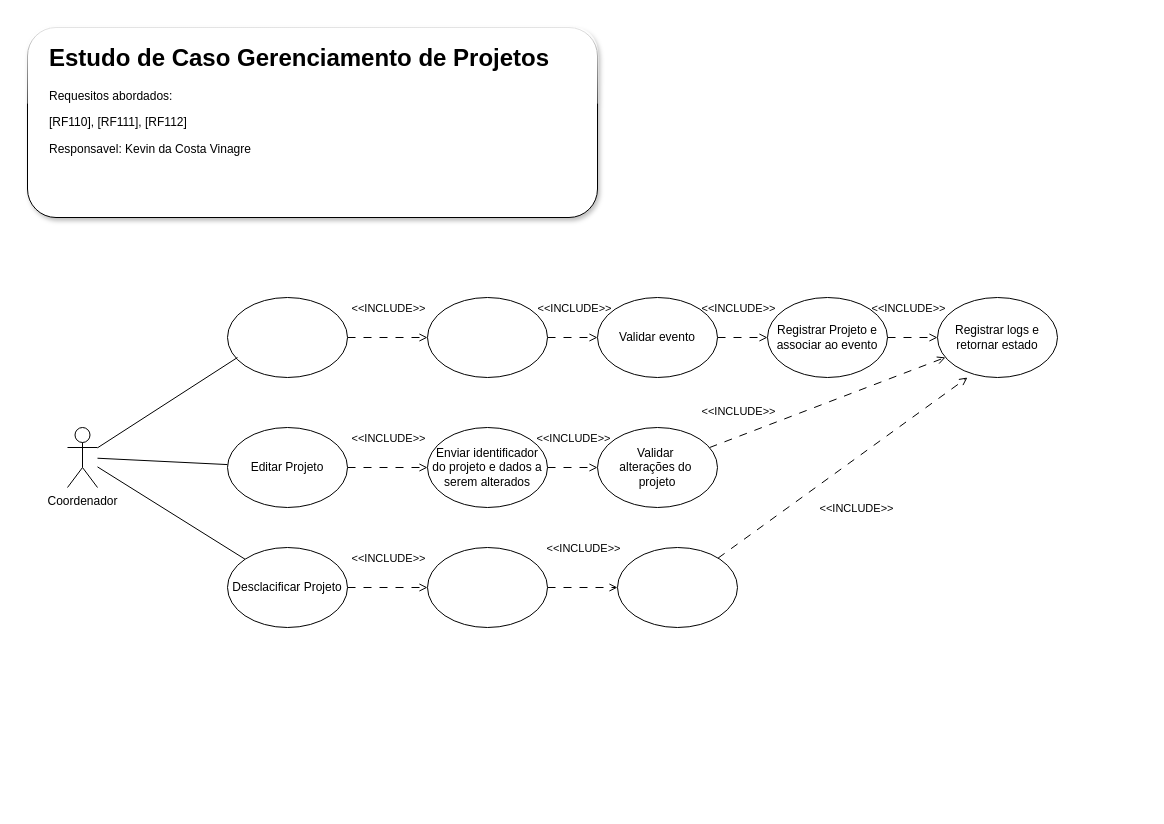
The diagram is 1164 pixels wide and 824 high, and some of its shapes have lost their labels. Here are the shapes that lost their labels. From the top down, the centre of each, then its label:
At pixel 287 337: "Adicionar Projeto".
At pixel 487 337: "Preencher Formulario Inscrição".
At pixel 487 587: "Enviar identificador do projeto".
At pixel 677 587: "Mudar estado do projeto para desqualificado".
